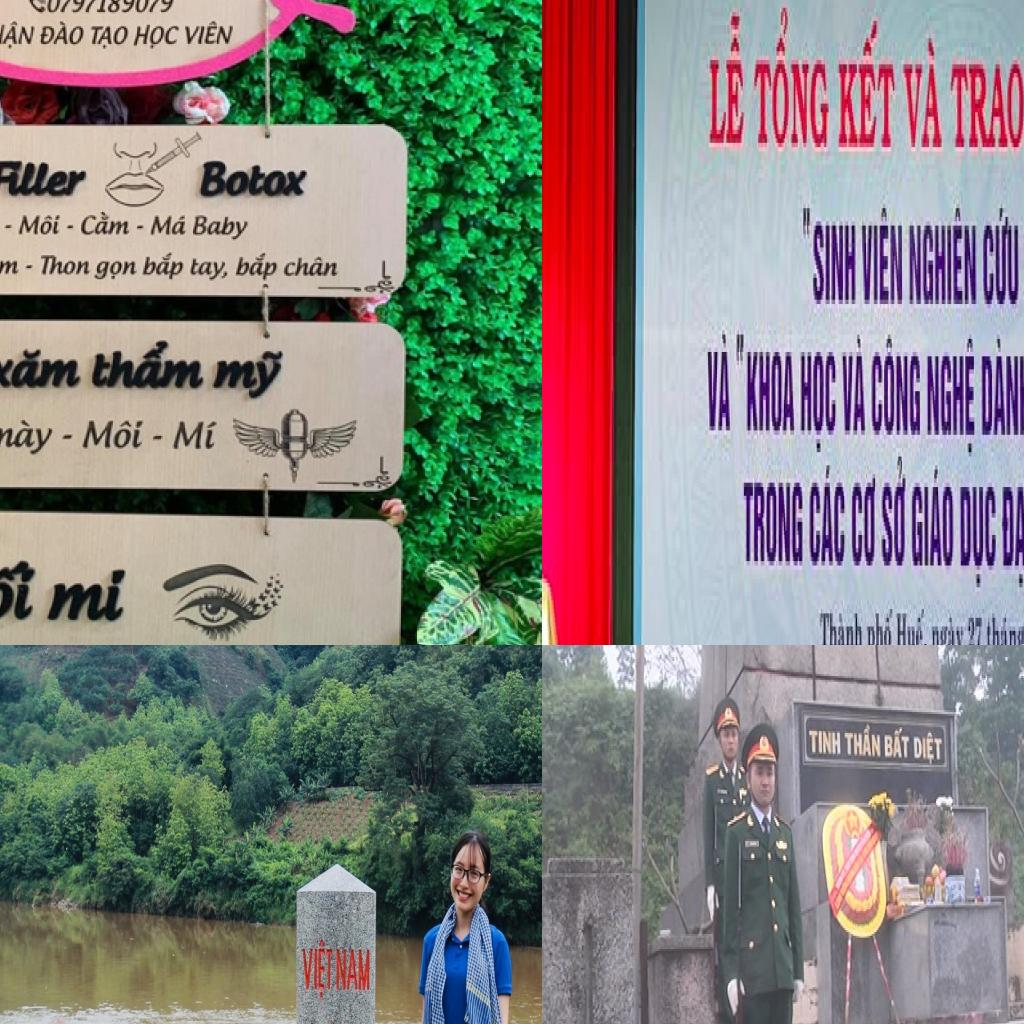text: (753, 4, 830, 160), (836, 16, 902, 156), (735, 326, 797, 439), (948, 64, 1024, 155), (910, 208, 979, 308), (802, 204, 858, 317), (89, 340, 206, 393), (926, 339, 976, 461), (742, 478, 804, 574), (871, 330, 923, 444), (708, 12, 747, 156), (911, 457, 956, 574), (198, 158, 319, 200), (902, 34, 944, 151), (980, 334, 1024, 443), (862, 204, 905, 313), (212, 348, 292, 404), (798, 352, 839, 461), (958, 482, 998, 592), (808, 465, 848, 574), (982, 199, 1020, 313), (0, 159, 95, 199), (0, 348, 87, 391), (880, 448, 909, 574), (840, 335, 868, 439), (0, 418, 66, 461), (707, 326, 732, 439), (0, 559, 41, 623), (1002, 482, 1024, 596), (852, 478, 877, 574), (42, 0, 180, 17), (80, 417, 146, 452), (300, 938, 334, 1000), (334, 944, 374, 994), (193, 214, 252, 246), (39, 18, 94, 52), (185, 18, 243, 48), (817, 608, 864, 645), (234, 249, 282, 284), (81, 207, 134, 238), (174, 420, 222, 452), (282, 254, 342, 279), (142, 250, 186, 284), (186, 255, 234, 286), (930, 604, 966, 645), (134, 22, 183, 52), (985, 608, 1024, 645), (895, 604, 930, 645), (91, 258, 140, 286), (38, 254, 95, 278), (844, 724, 882, 760), (148, 210, 192, 240), (90, 23, 134, 52), (0, 20, 39, 52), (17, 212, 65, 238), (914, 729, 944, 765), (865, 609, 894, 645), (808, 729, 842, 758), (884, 726, 910, 762), (967, 613, 984, 645), (0, 253, 20, 277)
